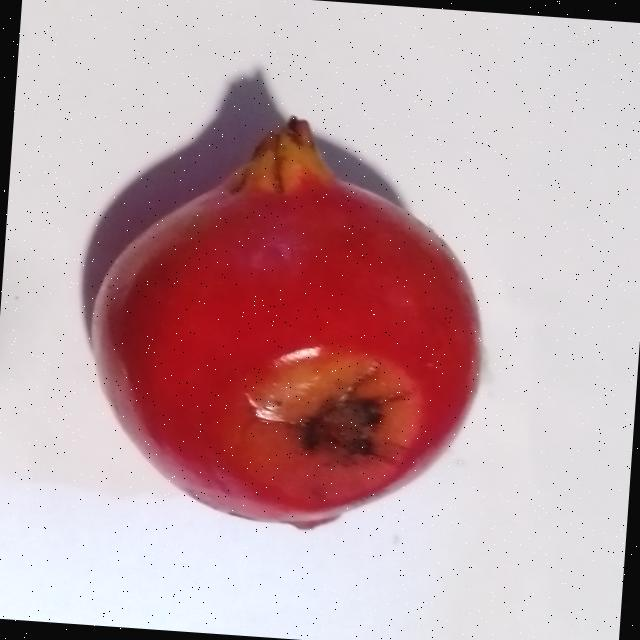Rotten: (68, 98, 504, 541)
